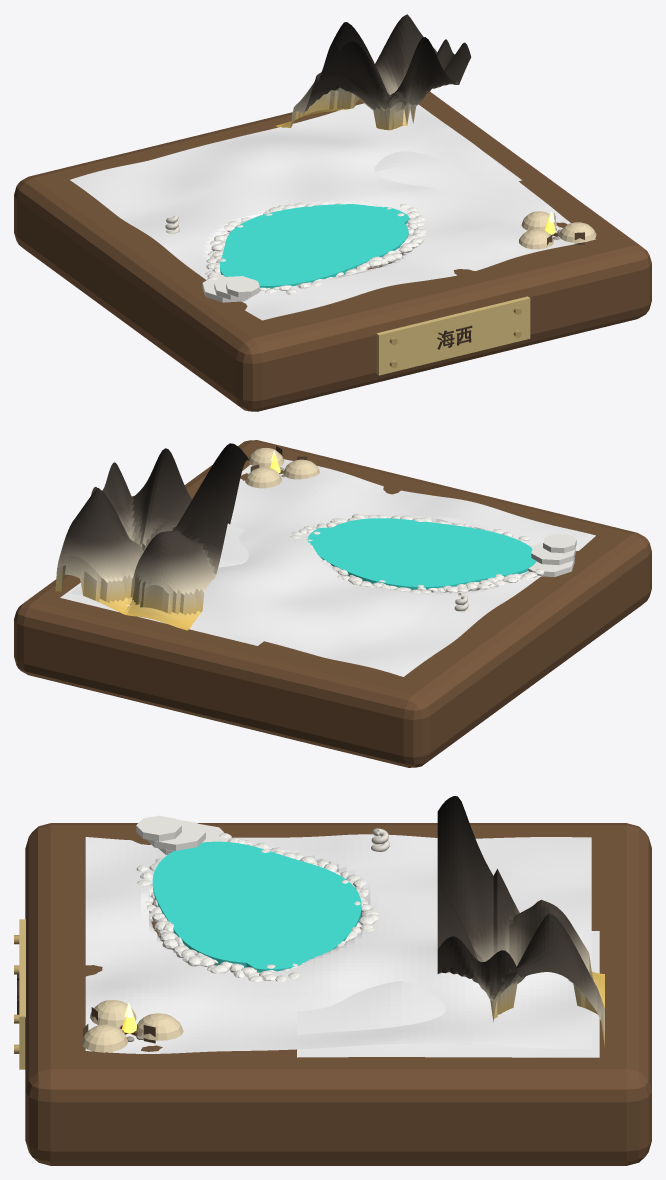
Rendered from haixi.glb.
The picture shows the model from 3 angles, top to bottom: view 1: azimuth 30°, elevation 25°; view 2: azimuth 150°, elevation 25°; view 3: azimuth 270°, elevation 25°; orthographic projection. The views are drawn at different scales.
Visible parts, largest first — view 1: Base, Sand, LakeVolume, HeiduMountain, Plaque, HeiduSandSkirt, CrustJoined; view 2: Base, Sand, HeiduMountain, LakeVolume, CrustJoined, HeiduSandSkirt, Tent2, Terrace.001, Tent0, Terrace.002, Tent1; view 3: Base, Sand, LakeVolume, HeiduMountain, HeiduSandSkirt, CrustJoined, Plaque, Tent1, Terrace.002, Tent2, Terrace.001, Tent0.
Part boxes in pixels (x1,y1,x2,y2): Base: (14, 91, 651, 411); Sand: (70, 103, 595, 320); LakeVolume: (220, 204, 409, 288); HeiduMountain: (276, 14, 471, 130); Plaque: (376, 296, 530, 375); HeiduSandSkirt: (374, 104, 521, 196); CrustJoined: (205, 202, 426, 294); Base: (14, 440, 651, 767); Sand: (70, 459, 595, 676); HeiduMountain: (55, 443, 249, 630); LakeVolume: (307, 518, 536, 589); CrustJoined: (290, 514, 543, 593); HeiduSandSkirt: (60, 525, 263, 645); Tent2: (245, 467, 281, 488); Terrace.001: (531, 543, 575, 565); Tent0: (283, 459, 319, 479); Terrace.002: (543, 534, 576, 553); Tent1: (248, 448, 284, 467); Base: (25, 823, 651, 1165); Sand: (85, 834, 591, 1053); LakeVolume: (152, 841, 361, 972); HeiduMountain: (437, 796, 604, 1046); HeiduSandSkirt: (297, 931, 599, 1057); CrustJoined: (136, 833, 379, 982); Plaque: (19, 919, 25, 1069); Tent1: (81, 1024, 128, 1052); Terrace.002: (136, 815, 181, 841); Tent2: (136, 1013, 183, 1040); Terrace.001: (146, 819, 205, 850); Tent0: (90, 1000, 136, 1027).
Size of the model in its own units: 0.3 by 0.1569 by 0.3055.
